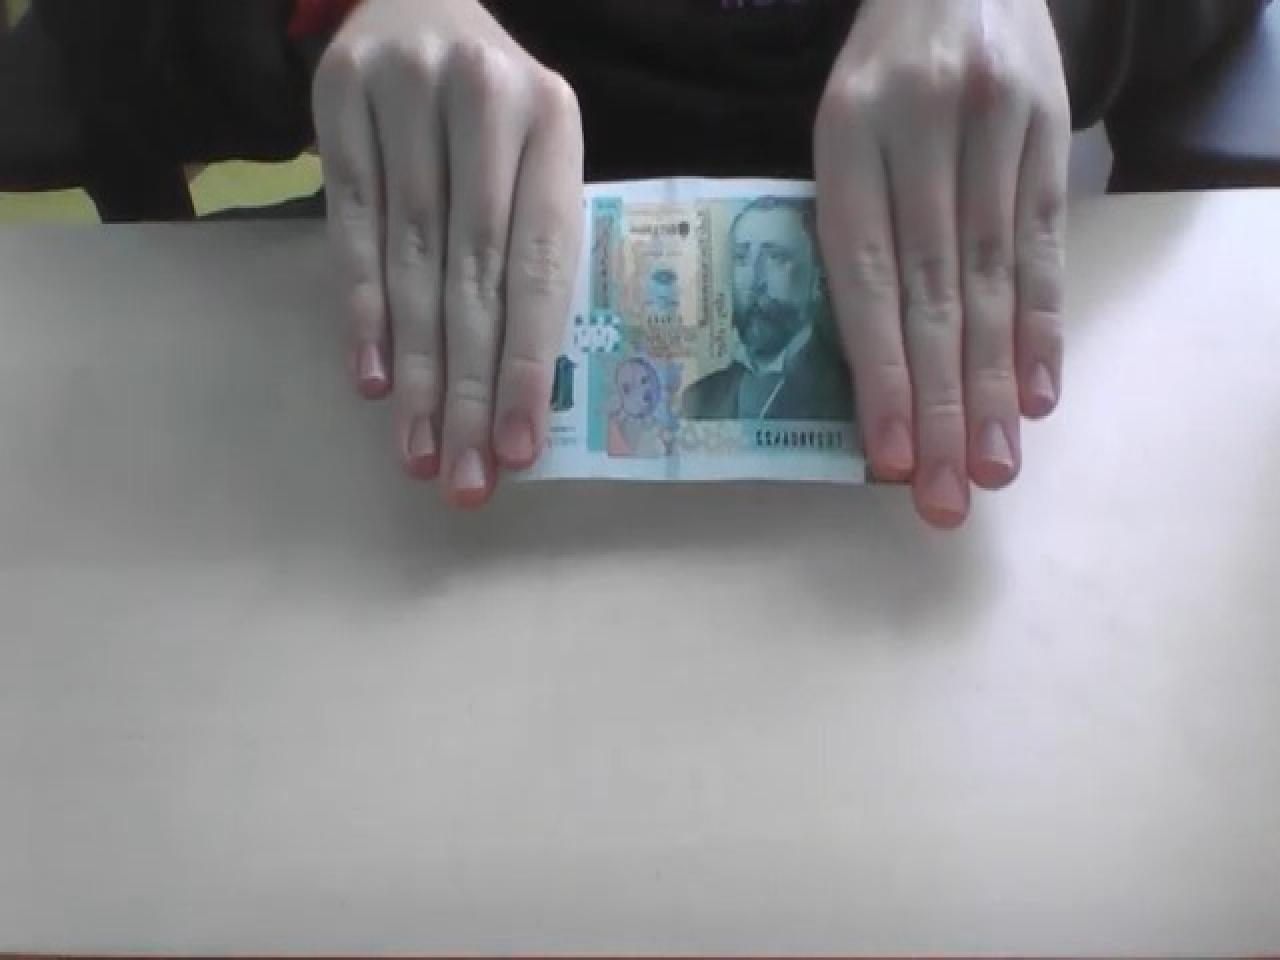100leva: (522, 178, 872, 482), (680, 192, 856, 424)
